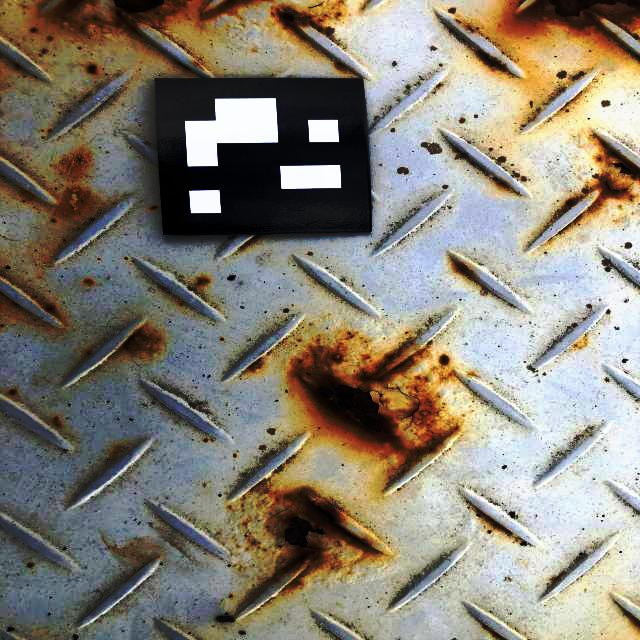Corrosion: (304, 351, 438, 459), (272, 487, 370, 574), (62, 0, 190, 30), (537, 0, 640, 30), (598, 153, 640, 203), (209, 0, 260, 22), (122, 327, 160, 354), (272, 7, 315, 26)
